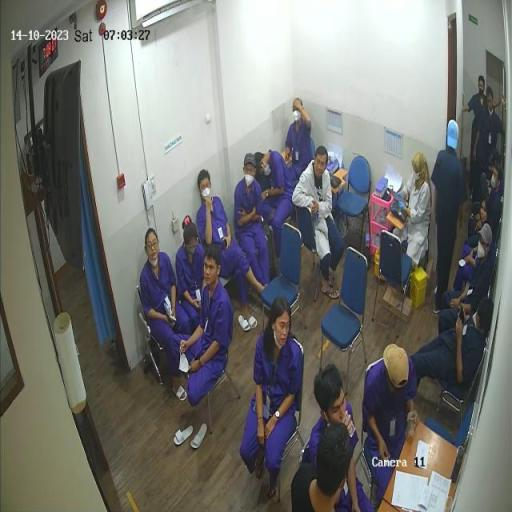person: (241, 298, 304, 499), (198, 169, 267, 328), (171, 244, 235, 407), (309, 366, 378, 512), (364, 344, 419, 507), (140, 229, 191, 402), (292, 147, 346, 295), (410, 297, 495, 389), (431, 120, 469, 313), (439, 224, 493, 337), (292, 423, 353, 512), (464, 77, 507, 201), (235, 154, 272, 287), (399, 153, 433, 279), (255, 151, 293, 259), (454, 199, 495, 292), (475, 87, 506, 204), (176, 217, 206, 335), (287, 99, 313, 189), (473, 164, 503, 241), (482, 149, 503, 195)
